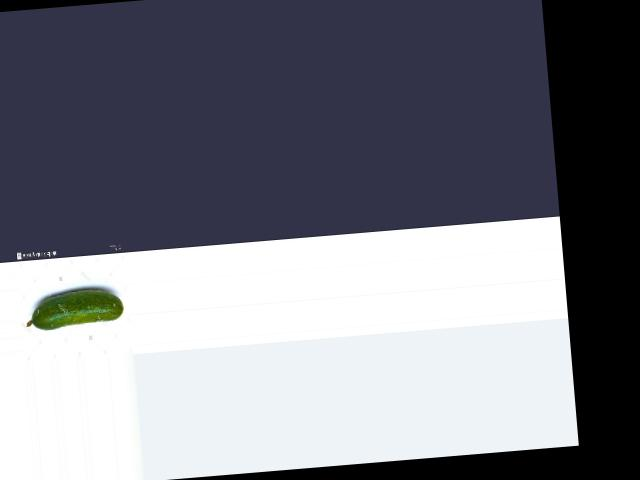cucumber: (24, 286, 125, 331)
